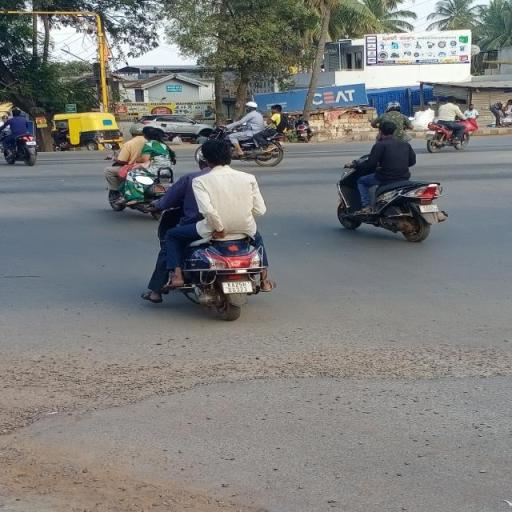bike: (140, 133, 294, 325)
numberplate: (220, 280, 254, 294)
withouthelmet: (202, 140, 232, 167), (197, 151, 206, 170)
